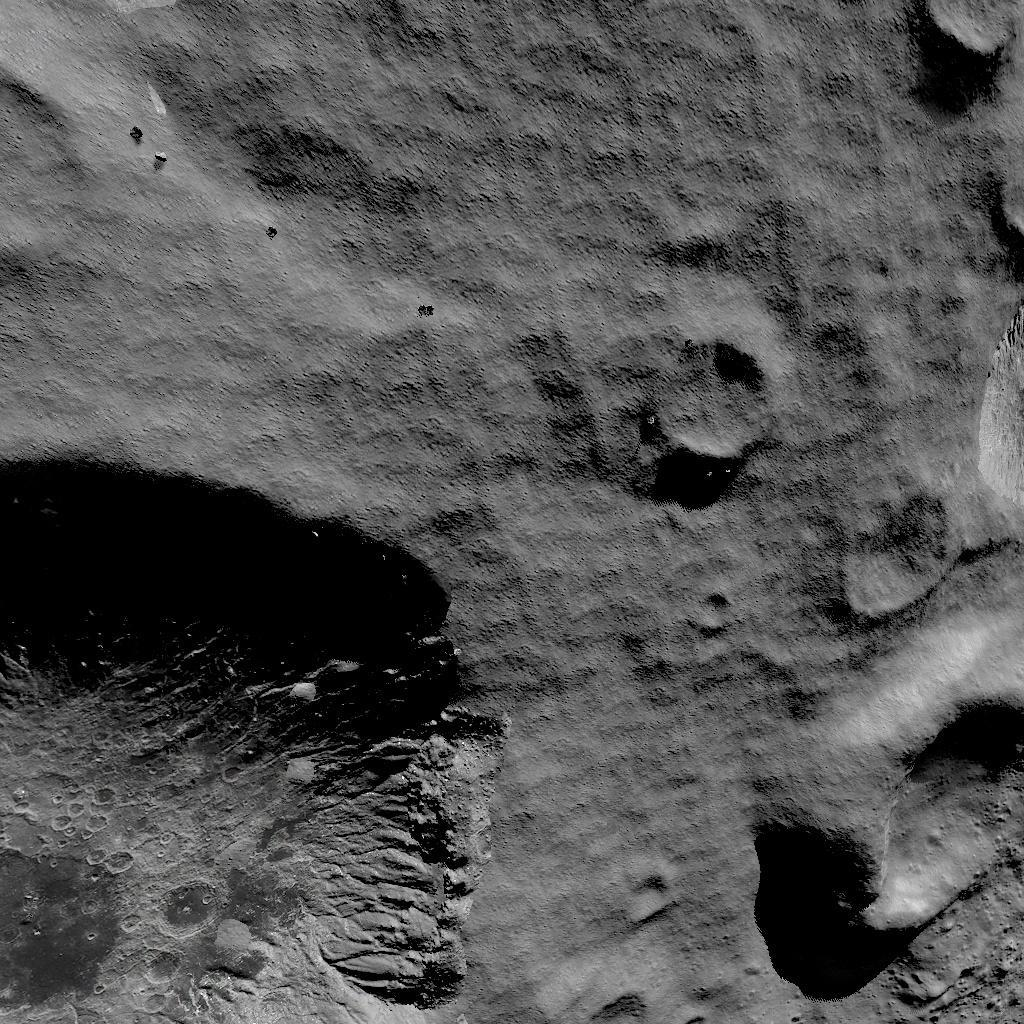Crater: (0, 448, 509, 1024), (755, 672, 1024, 1024), (813, 305, 1024, 638), (0, 80, 117, 284), (636, 330, 780, 466), (895, 0, 1021, 124), (963, 156, 1024, 289)
Plan surface: (146, 64, 620, 418), (631, 98, 871, 297)
